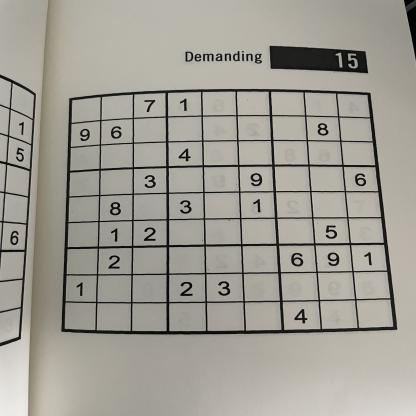sudoku: (56, 86, 402, 340)
